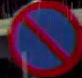No Stopping: (6, 0, 81, 77)
